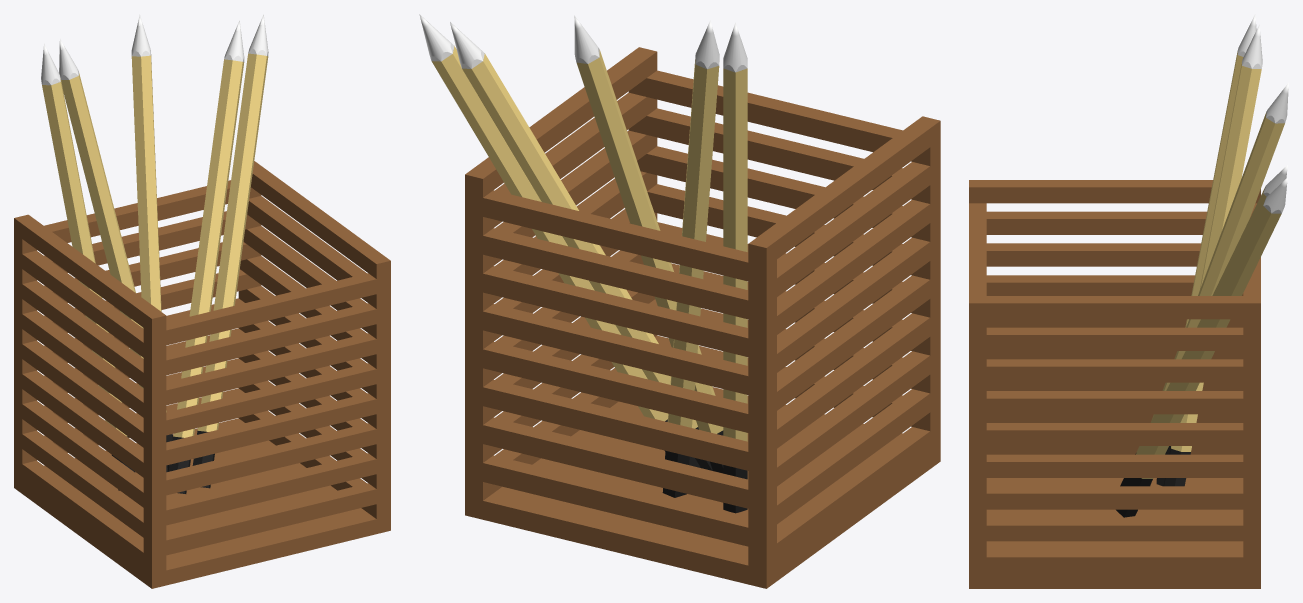
The model's file is pen.obj.
The picture shows the model from 3 angles, left to right: view 1: azimuth 30°, elevation 25°; view 2: azimuth 150°, elevation 25°; view 3: azimuth 270°, elevation 25°; orthographic projection. The views are drawn at different scales.
Parts seen in each view (by area): view 1: Mesh1 Group1 Model, Mesh5 Difference2_1 Group4 Group2 Model, Mesh3 Difference2 Group3 Group2 Model, Mesh17 Component_1_6 Model, Mesh19 Component_1_8 Model, Mesh24 Component_1_13 Model, Mesh27 Component_1_16 Model, Mesh32 Component_1_21 Model, Mesh36 Component_1_25 Model, Mesh39 Component_1_28 Model, Mesh45 Component_1_34 Model, Mesh7 Difference2_2 Group5 Group2 Model (+31 smaller); view 2: Mesh1 Group1 Model, Mesh38 Component_1_27 Model, Mesh33 Component_1_22 Model, Mesh34 Component_1_23 Model, Mesh28 Component_1_17 Model, Mesh42 Component_1_31 Model, Mesh23 Component_1_12 Model, Mesh18 Component_1_7 Model, Mesh14 Component_1_3 Model, Mesh44 Component_1_33 Model, Mesh45 Component_1_34 Model, Mesh31 Component_1_20 Model (+33 smaller); view 3: Mesh1 Group1 Model, Mesh43 Component_1_32 Model, Mesh15 Component_1_4 Model, Mesh20 Component_1_9 Model, Mesh30 Component_1_19 Model, Mesh37 Component_1_26 Model, Mesh25 Component_1_14 Model, Mesh40 Component_1_29 Model, Mesh13 Component_1_2 Model, Mesh26 Component_1_15 Model, Mesh44 Component_1_33 Model, Mesh41 Component_1_30 Model (+17 smaller).
Part boxes in pixels (x1=…): Mesh1 Group1 Model: x1=14, y1=418, x2=390, y2=588; Mesh5 Difference2_1 Group4 Group2 Model: x1=192, y1=53, x2=268, y2=488; Mesh3 Difference2 Group3 Group2 Model: x1=168, y1=59, x2=244, y2=493; Mesh17 Component_1_6 Model: x1=143, y1=483, x2=390, y2=558; Mesh19 Component_1_8 Model: x1=143, y1=453, x2=390, y2=528; Mesh24 Component_1_13 Model: x1=143, y1=423, x2=390, y2=498; Mesh27 Component_1_16 Model: x1=143, y1=393, x2=390, y2=468; Mesh32 Component_1_21 Model: x1=143, y1=363, x2=390, y2=438; Mesh36 Component_1_25 Model: x1=143, y1=333, x2=390, y2=408; Mesh39 Component_1_28 Model: x1=143, y1=303, x2=390, y2=378; Mesh45 Component_1_34 Model: x1=143, y1=273, x2=390, y2=348; Mesh7 Difference2_2 Group5 Group2 Model: x1=131, y1=55, x2=167, y2=472; Mesh1 Group1 Model: x1=465, y1=387, x2=940, y2=588; Mesh38 Component_1_27 Model: x1=465, y1=228, x2=776, y2=323; Mesh33 Component_1_22 Model: x1=465, y1=304, x2=776, y2=399; Mesh34 Component_1_23 Model: x1=465, y1=266, x2=776, y2=361; Mesh28 Component_1_17 Model: x1=465, y1=341, x2=776, y2=437; Mesh42 Component_1_31 Model: x1=465, y1=190, x2=776, y2=285; Mesh23 Component_1_12 Model: x1=465, y1=379, x2=776, y2=475; Mesh18 Component_1_7 Model: x1=465, y1=417, x2=776, y2=512; Mesh14 Component_1_3 Model: x1=465, y1=455, x2=776, y2=550; Mesh44 Component_1_33 Model: x1=748, y1=116, x2=940, y2=266; Mesh45 Component_1_34 Model: x1=628, y1=70, x2=940, y2=165; Mesh31 Component_1_20 Model: x1=748, y1=234, x2=940, y2=380; Mesh1 Group1 Model: x1=969, y1=478, x2=1260, y2=588; Mesh43 Component_1_32 Model: x1=969, y1=296, x2=1260, y2=319; Mesh15 Component_1_4 Model: x1=969, y1=518, x2=1260, y2=541; Mesh20 Component_1_9 Model: x1=969, y1=486, x2=1260, y2=509; Mesh30 Component_1_19 Model: x1=969, y1=391, x2=1260, y2=414; Mesh37 Component_1_26 Model: x1=969, y1=359, x2=1260, y2=382; Mesh25 Component_1_14 Model: x1=969, y1=454, x2=1260, y2=477; Mesh40 Component_1_29 Model: x1=969, y1=327, x2=1260, y2=350; Mesh13 Component_1_2 Model: x1=969, y1=550, x2=1260, y2=572; Mesh26 Component_1_15 Model: x1=969, y1=423, x2=1260, y2=445; Mesh44 Component_1_33 Model: x1=969, y1=180, x2=1260, y2=203; Mesh41 Component_1_30 Model: x1=986, y1=211, x2=1206, y2=234.
Size of the model in its own units: 4.32 by 6.93 by 4.31.
